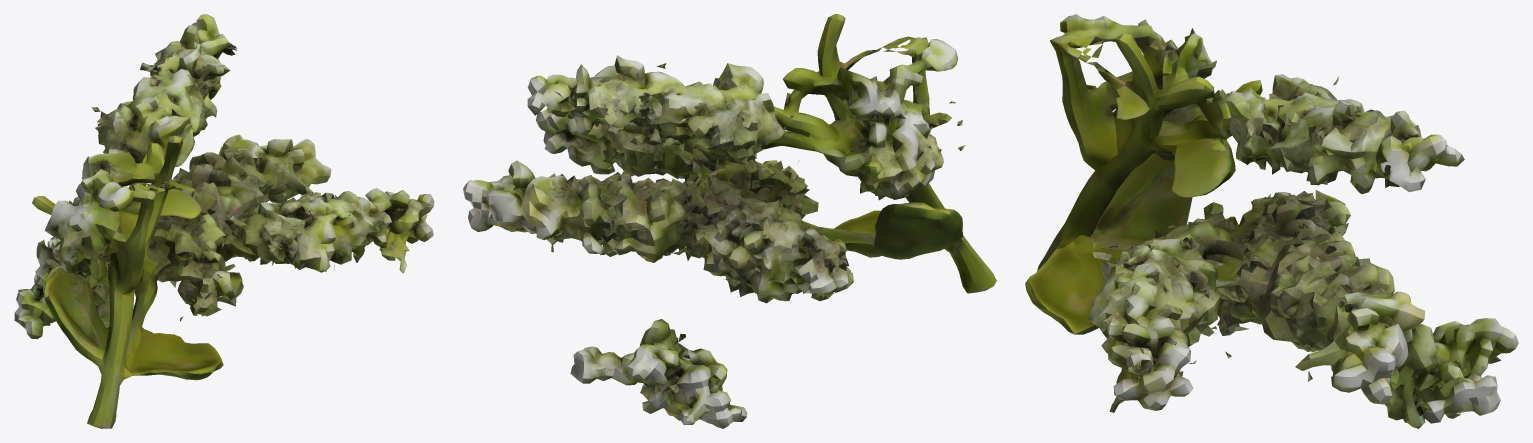
The model's file is 3веткаtled.glb.
The picture shows the model from 3 angles, left to right: view 1: azimuth 30°, elevation 25°; view 2: azimuth 150°, elevation 25°; view 3: azimuth 270°, elevation 25°; orthographic projection. The views are drawn at different scales.
Visible parts, largest first — view 1: output; view 2: output; view 3: output.
Boxes of the visible parts, x1=… form: output: x1=14, y1=14, x2=434, y2=428; output: x1=463, y1=14, x2=996, y2=428; output: x1=1025, y1=14, x2=1518, y2=428.
Bounding box in the file's own units: 2 × 1.47 × 1.77.
Materials: 1 (1 with a texture image).
